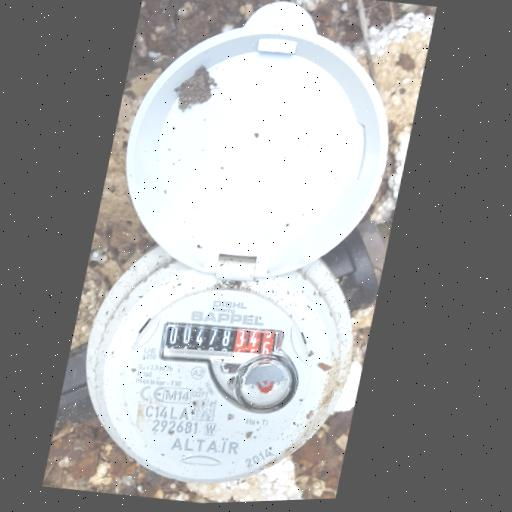0: (161, 324, 183, 351), (176, 324, 196, 351)
3: (229, 327, 248, 354)
4: (243, 327, 262, 354), (191, 325, 209, 352)
6: (255, 328, 277, 358)
7: (202, 326, 221, 353)
8: (216, 326, 236, 353)
border_water_meter_number: (156, 312, 286, 373)
